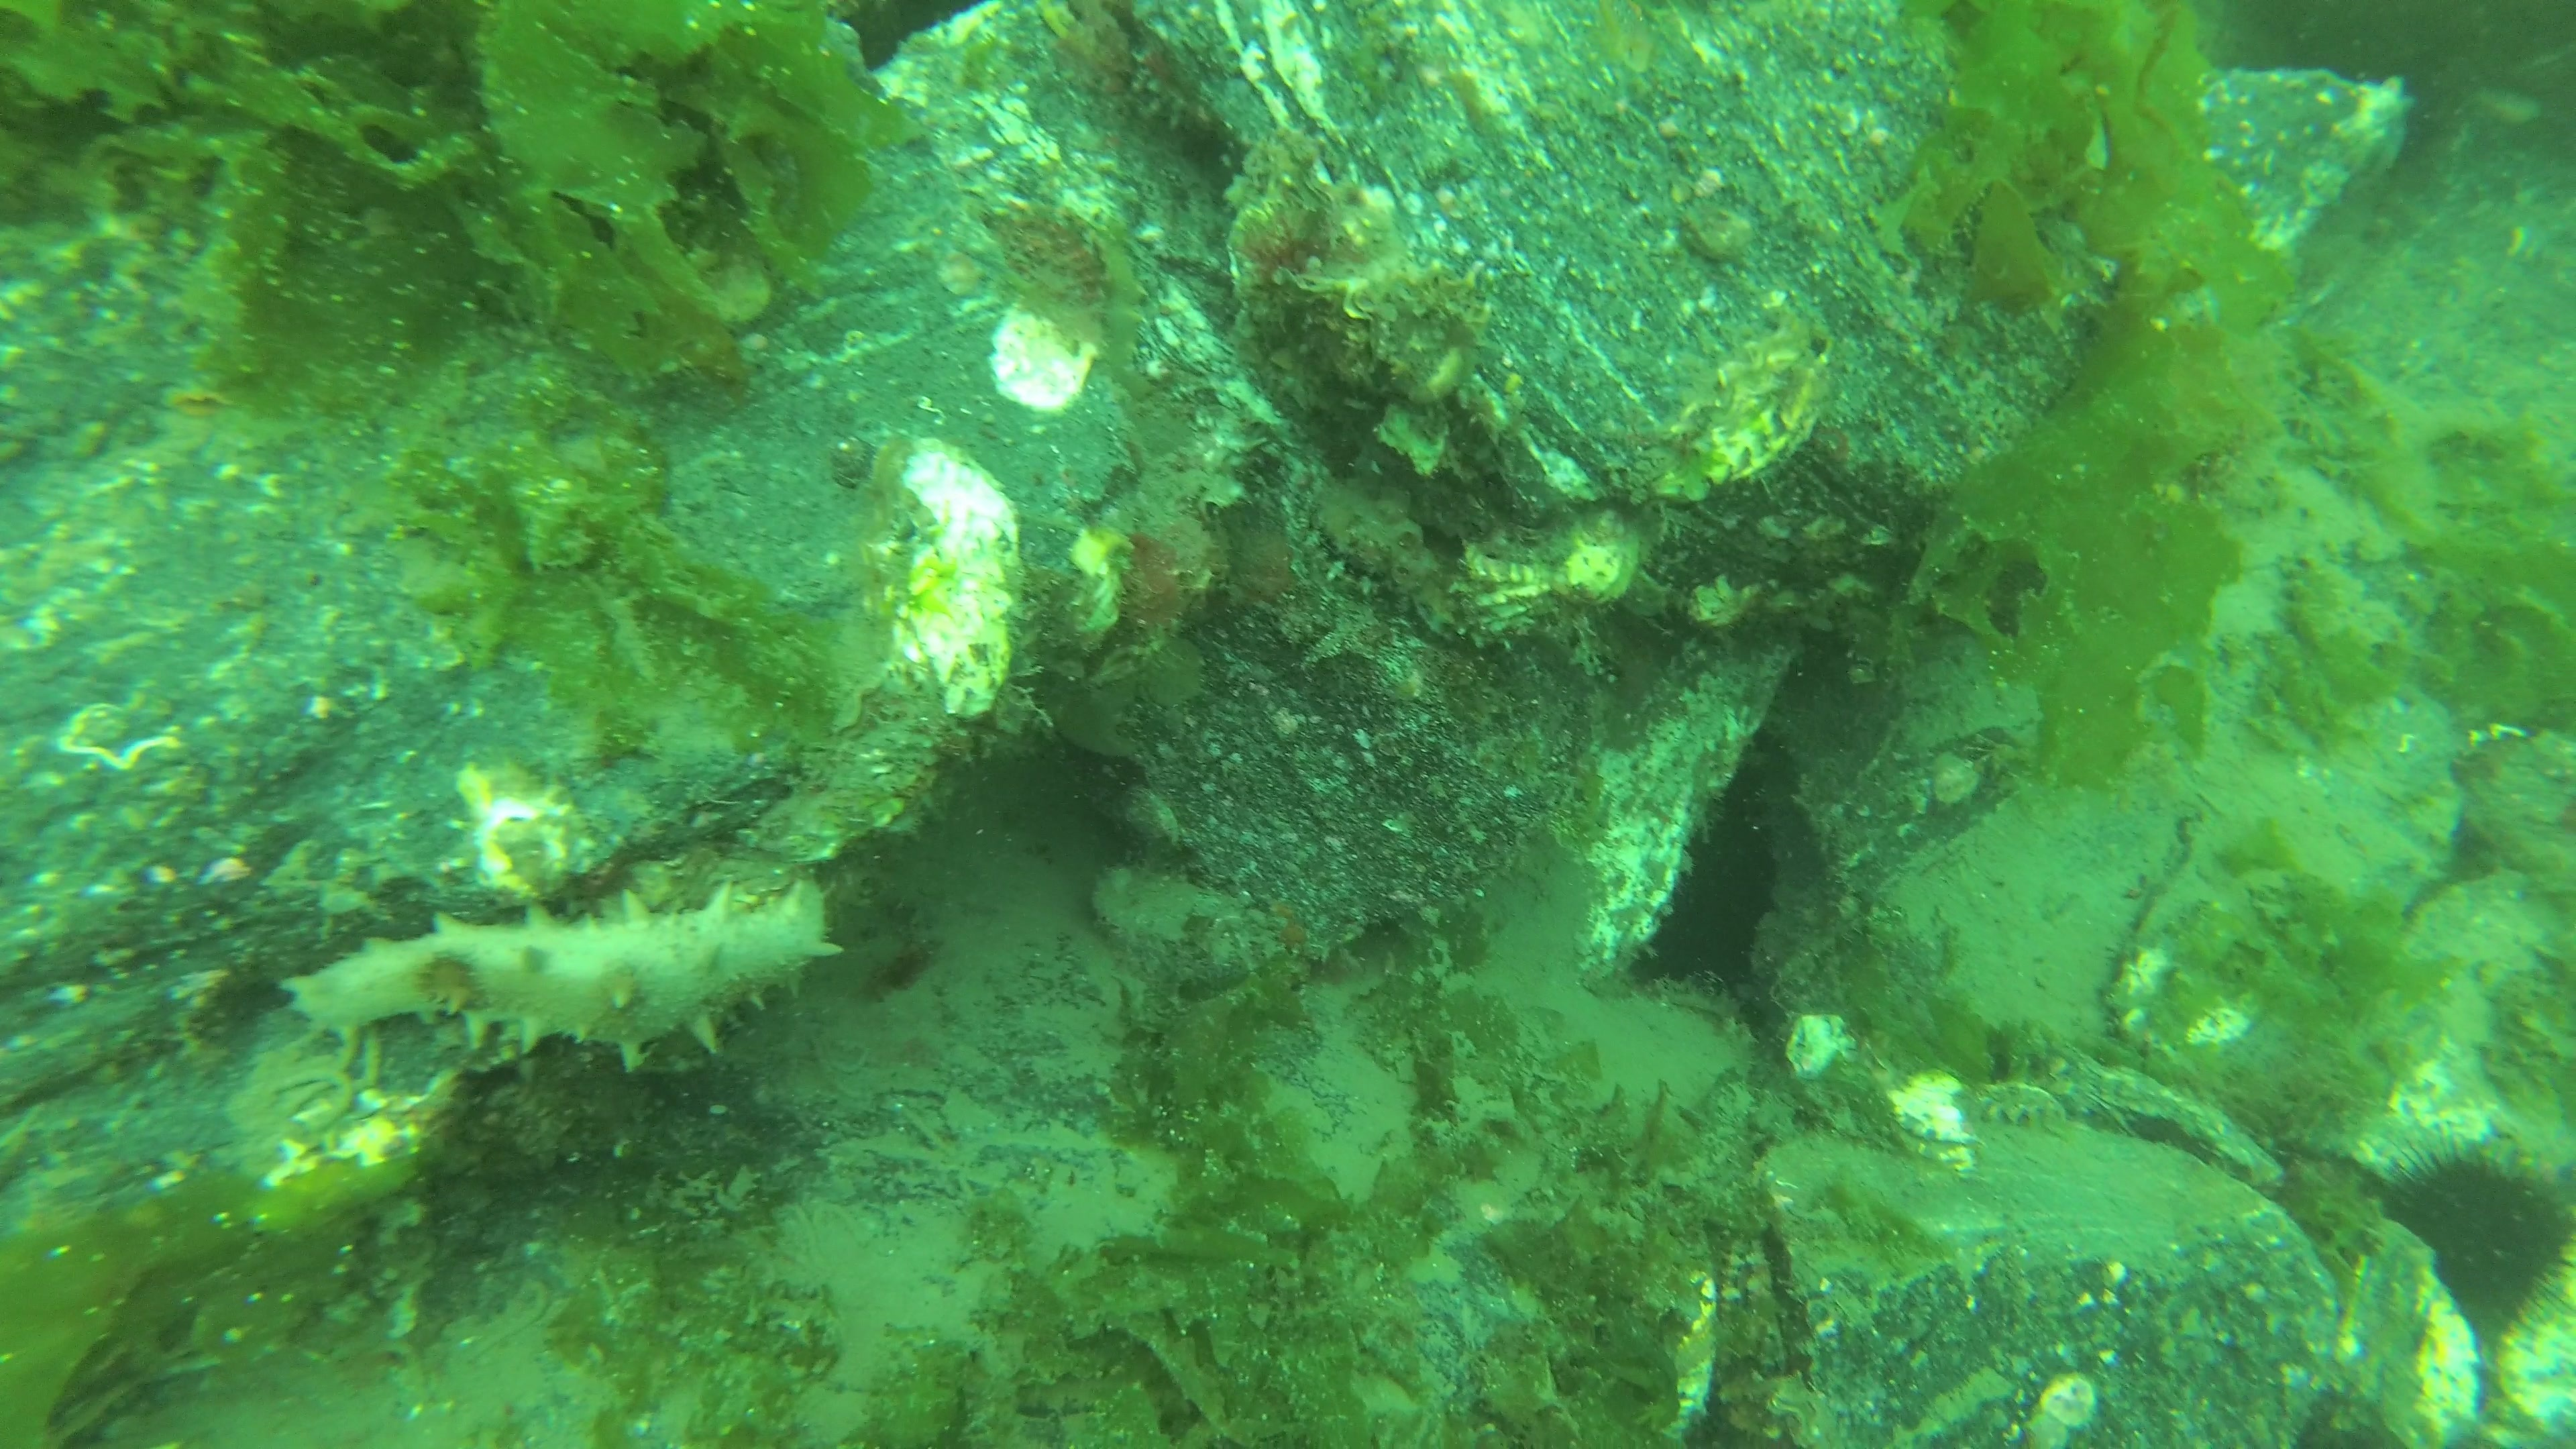echinus: (2367, 1122, 2576, 1364)
holothurian: (264, 874, 849, 1081)
